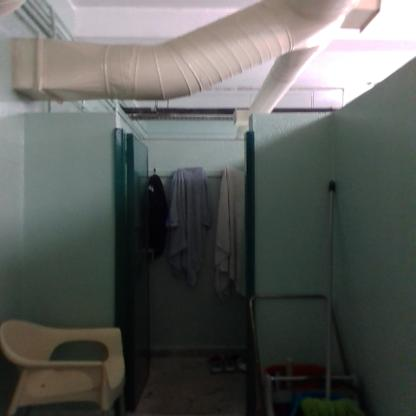open: (104, 100, 265, 384)
